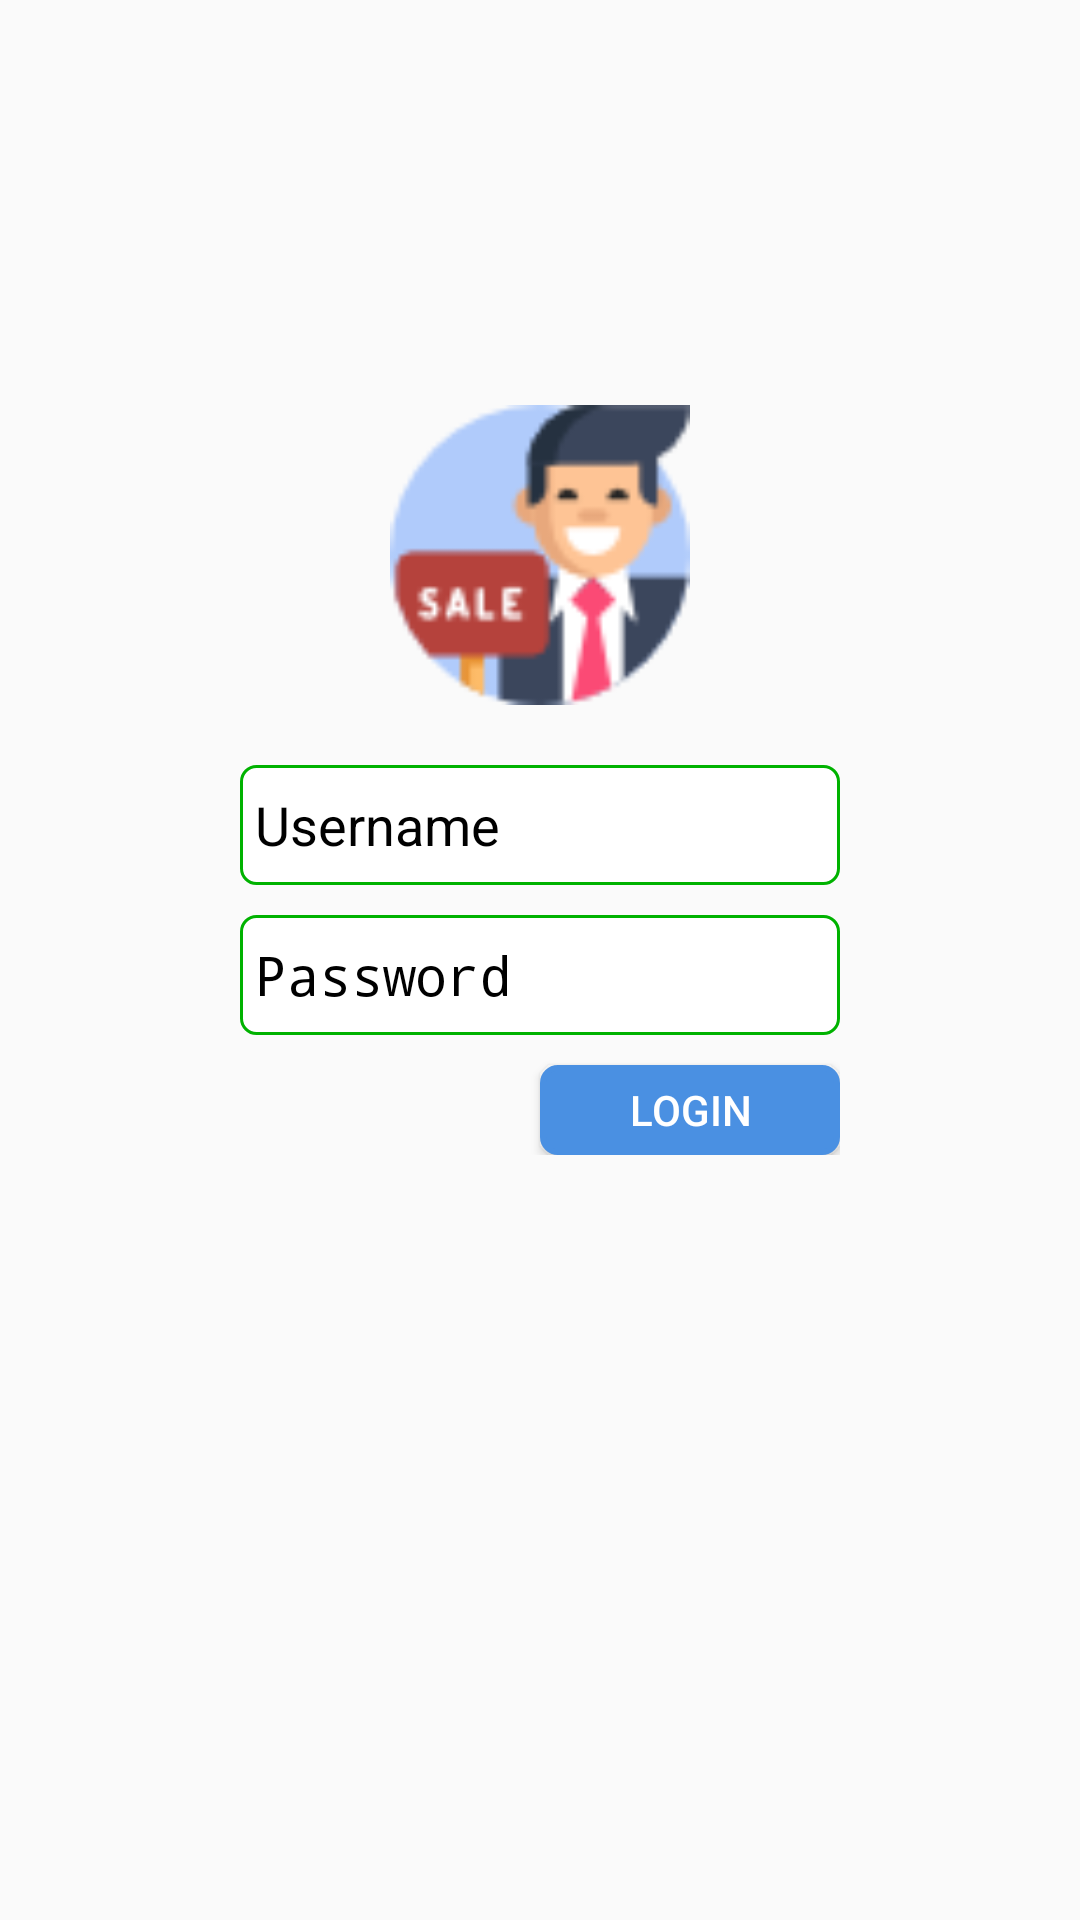

Where icons sit on this 1080 x 1920 app screen, as [x1, y1, x2, y2]:
estate agent: [390, 405, 690, 705]
